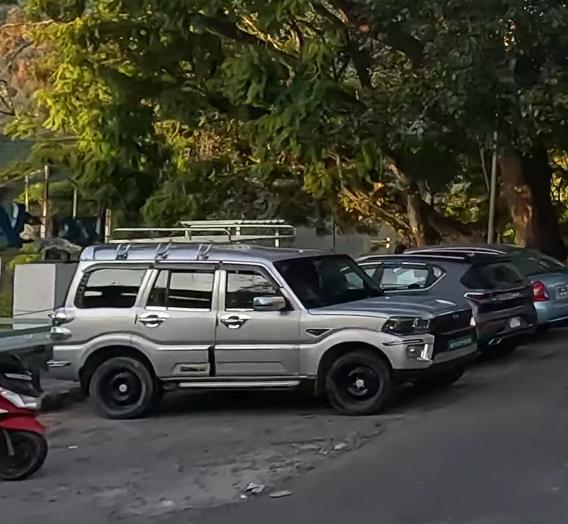SUV: (41, 218, 473, 431)
